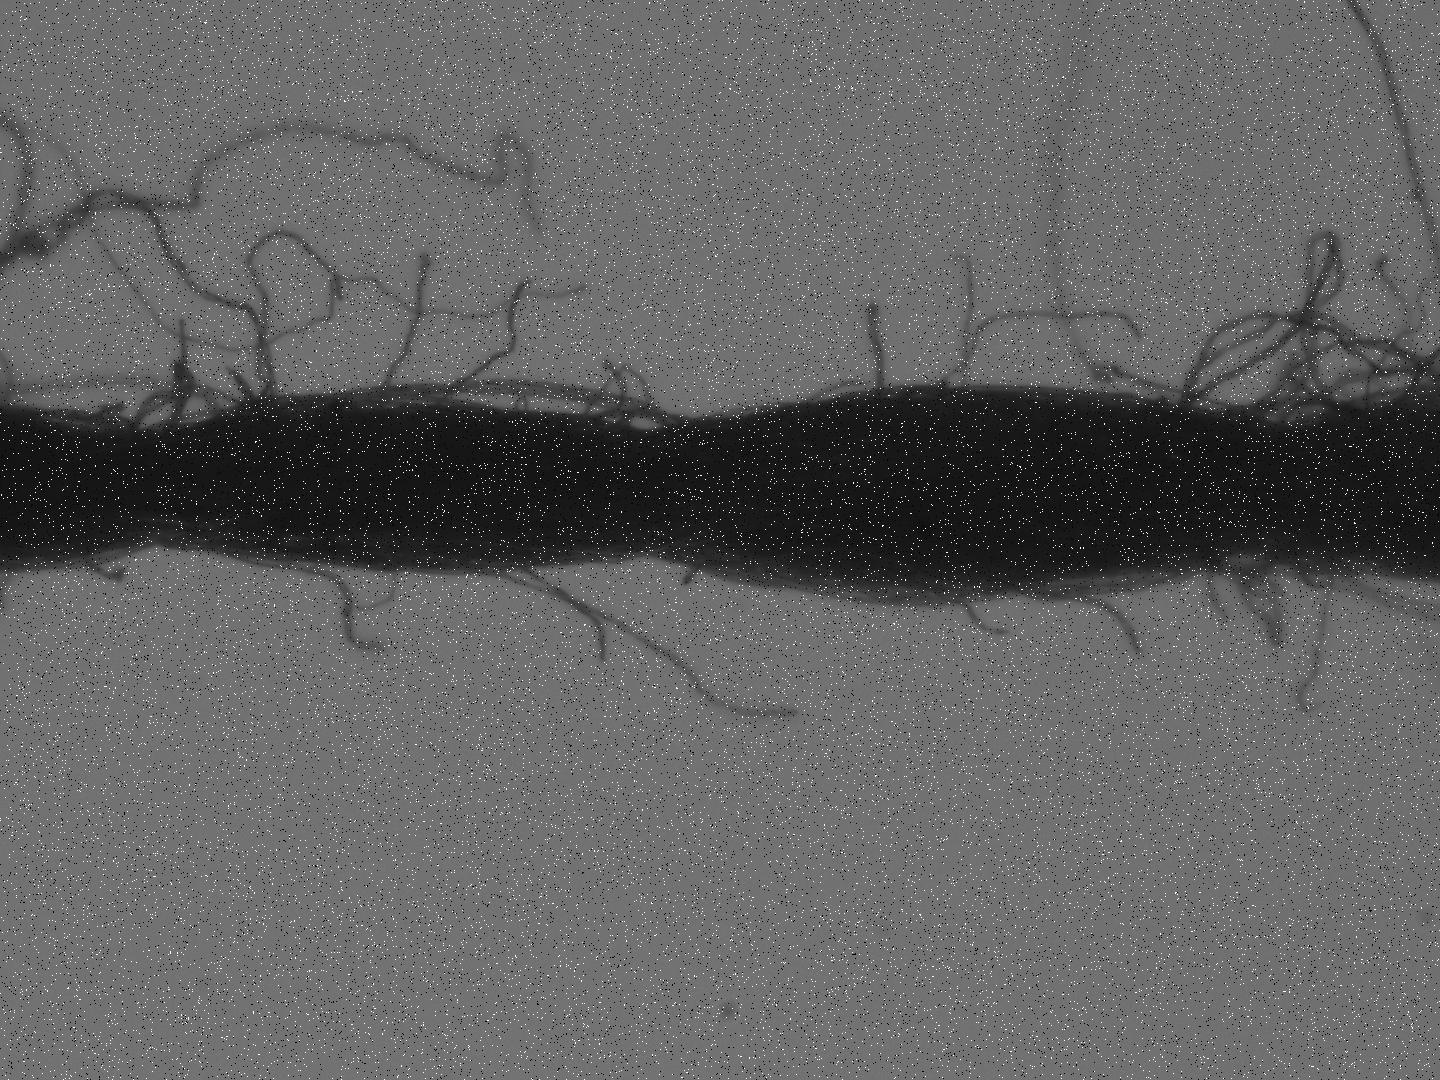loop_fiber: (1166, 225, 1438, 429), (203, 376, 698, 437), (574, 355, 660, 438), (1014, 567, 1189, 604), (127, 378, 238, 432), (1203, 546, 1278, 587)
protruding_fiber: (378, 248, 435, 397), (865, 303, 886, 393)
